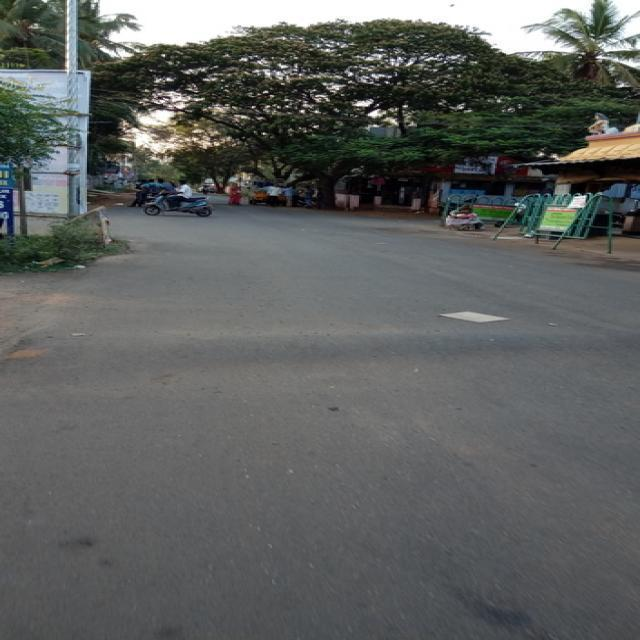NonMarked Bump: (30, 320, 567, 388)
